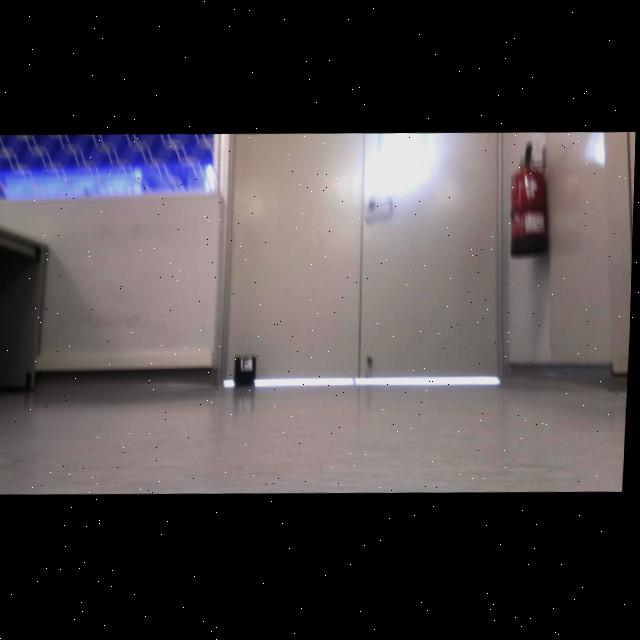F: (245, 361, 252, 370)
